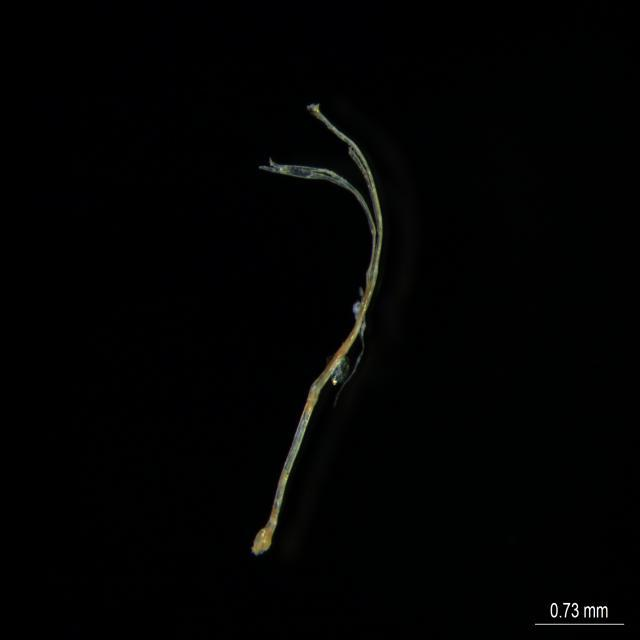fibers: (236, 99, 391, 563)
